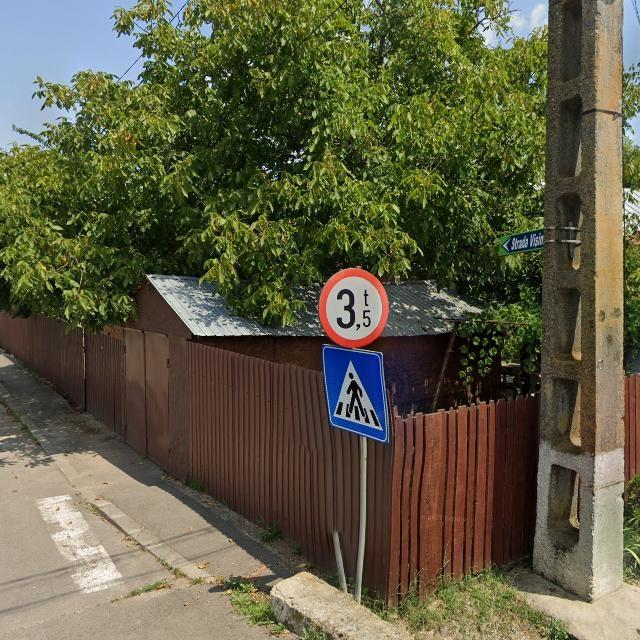info_crosswalk: (323, 345, 392, 443)
